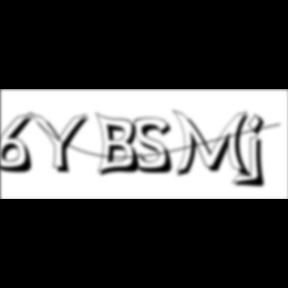6: (1, 112, 40, 176)
B: (96, 111, 146, 179)
M: (172, 108, 256, 181)
S: (133, 117, 179, 176)
Y: (28, 110, 94, 176)
j: (246, 113, 272, 191)
